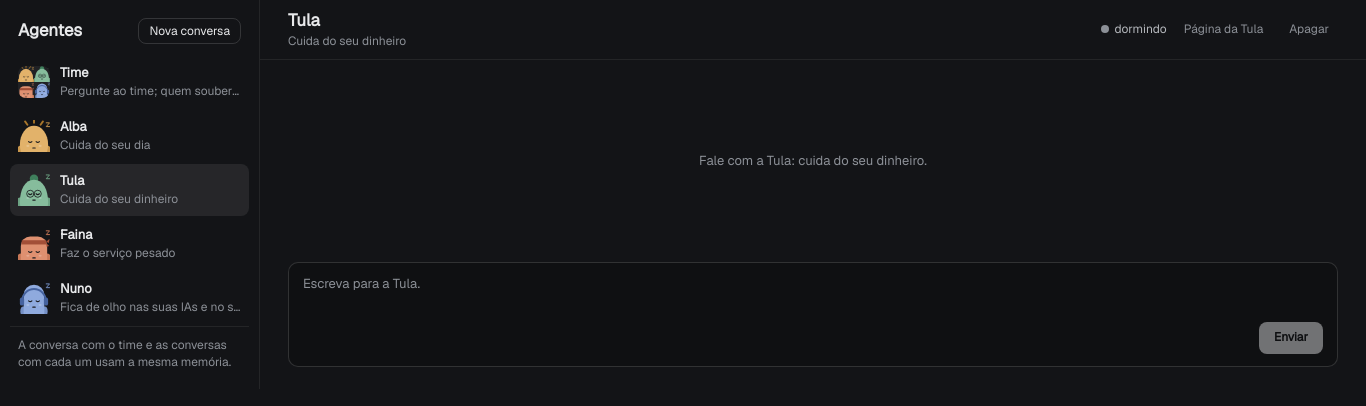
Test case: confirmação de apagar › o foco vai para Manter, Esc desiste e devolve o foco, e trocar de conversa fecha
Click the button "Apagar" at (1309, 30), box left=1280, top=14, right=1338, bottom=46
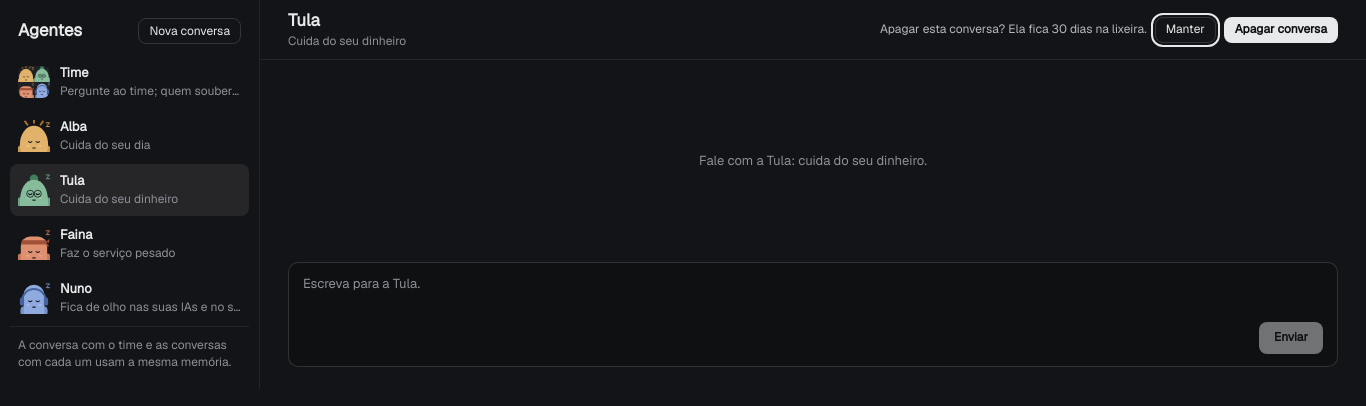
Press Escape in the button "Manter", box left=1155, top=16, right=1216, bottom=42
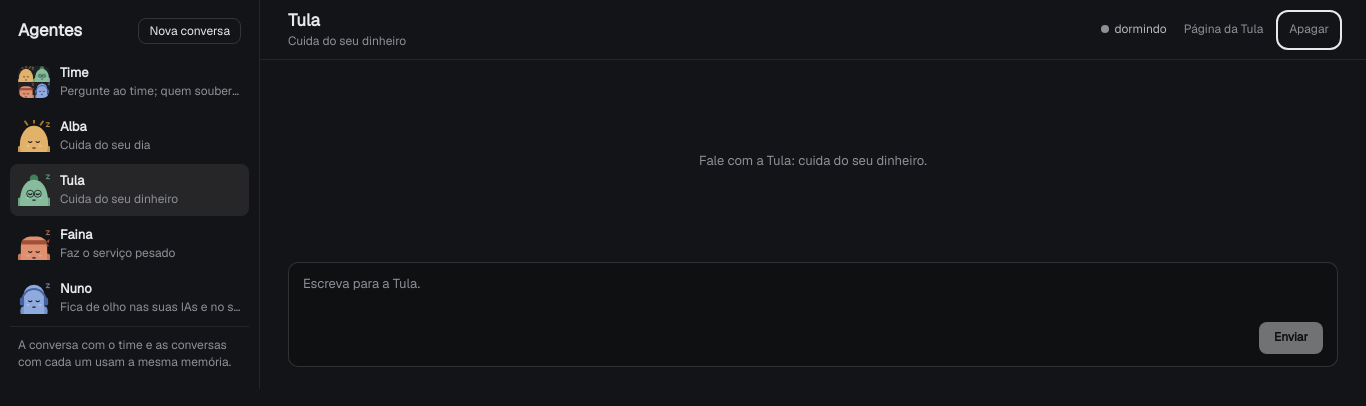
Click the button "Apagar" at (1309, 30), box left=1280, top=14, right=1338, bottom=46
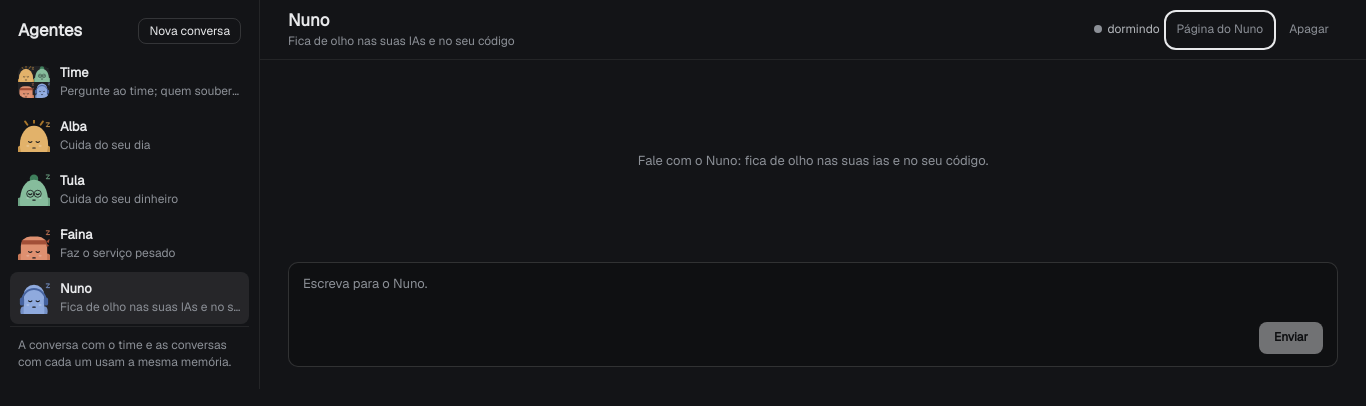
Expected: the heading with class "conversa-nome" reads "Nuno", left=288, top=9, right=330, bottom=31
